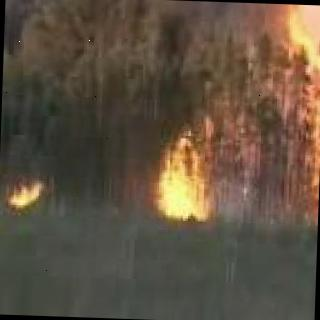fire: (278, 28, 320, 227), (153, 128, 217, 212), (9, 178, 48, 215)
